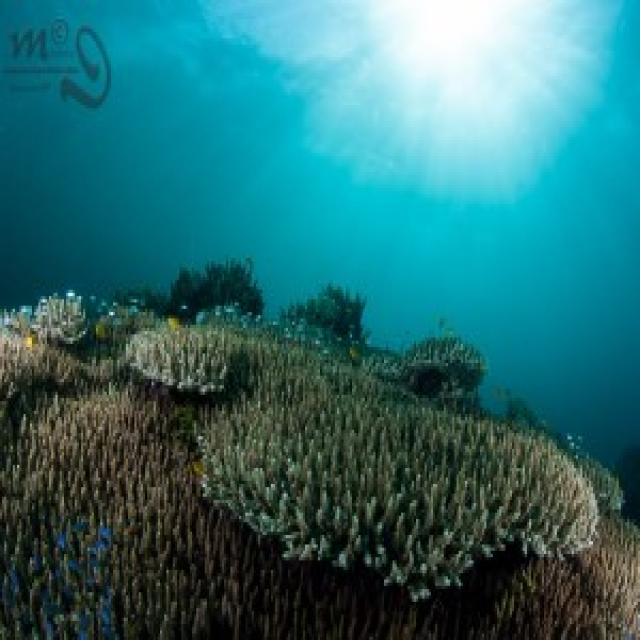Healthy: (3, 399, 600, 638), (202, 393, 598, 590), (1, 291, 135, 405), (127, 323, 231, 393), (579, 520, 639, 638), (244, 342, 370, 393)
